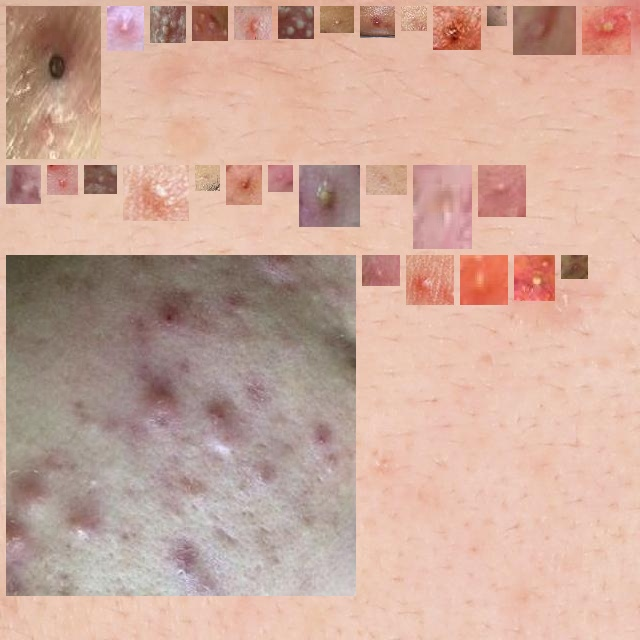pustule: (14, 263, 348, 588), (14, 14, 93, 151), (421, 173, 464, 241), (307, 173, 352, 219), (131, 173, 181, 213), (521, 14, 568, 47), (406, 263, 446, 297), (486, 173, 518, 209), (590, 14, 623, 47), (468, 263, 500, 297), (441, 14, 473, 42), (522, 263, 547, 293), (115, 14, 136, 43), (234, 173, 254, 197), (14, 173, 33, 196), (158, 14, 178, 35), (242, 14, 264, 32), (200, 14, 220, 33), (374, 173, 399, 187), (286, 14, 306, 31), (370, 263, 392, 278), (368, 14, 387, 30), (328, 14, 346, 30), (92, 173, 109, 186), (55, 173, 70, 187), (276, 173, 285, 184), (409, 14, 419, 23), (203, 173, 212, 183), (569, 263, 580, 271)
